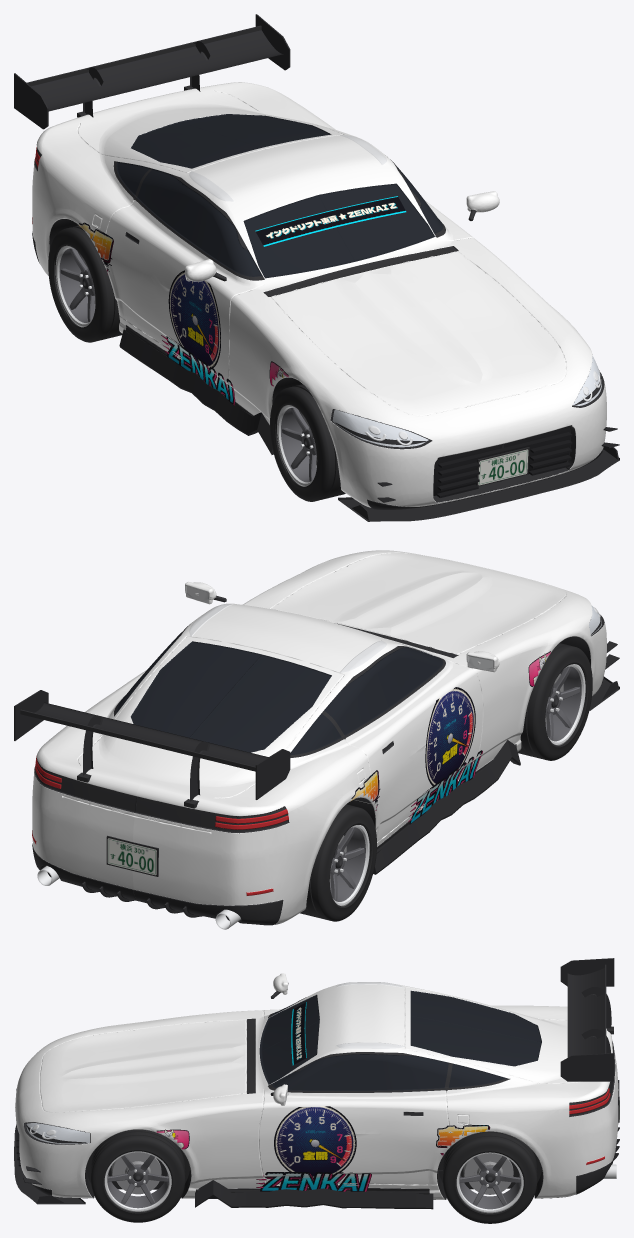
The model's file is zenkai.fbx.
The picture shows the model from 3 angles, top to bottom: view 1: azimuth 30°, elevation 25°; view 2: azimuth 150°, elevation 25°; view 3: azimuth 270°, elevation 25°; orthographic projection. The views are drawn at different scales.
Visible parts, largest first — view 1: Body, Wheel_FR, Wheel_RR; view 2: Body, Wheel_FR, Wheel_RR; view 3: Body, Wheel_FL, Wheel_RL.
Part boxes in pixels (x1,y1,x2,y2): Body: [14, 14, 619, 521]; Wheel_FR: [270, 384, 345, 501]; Wheel_RR: [48, 225, 122, 342]; Body: [14, 550, 619, 929]; Wheel_FR: [518, 643, 592, 760]; Wheel_RR: [300, 804, 376, 921]; Body: [14, 958, 619, 1209]; Wheel_FL: [91, 1129, 185, 1222]; Wheel_RL: [443, 1131, 537, 1223].
Bounding box in the file's own units: 2.1 × 1.32 × 4.39.
14 materials, 2 textured.
